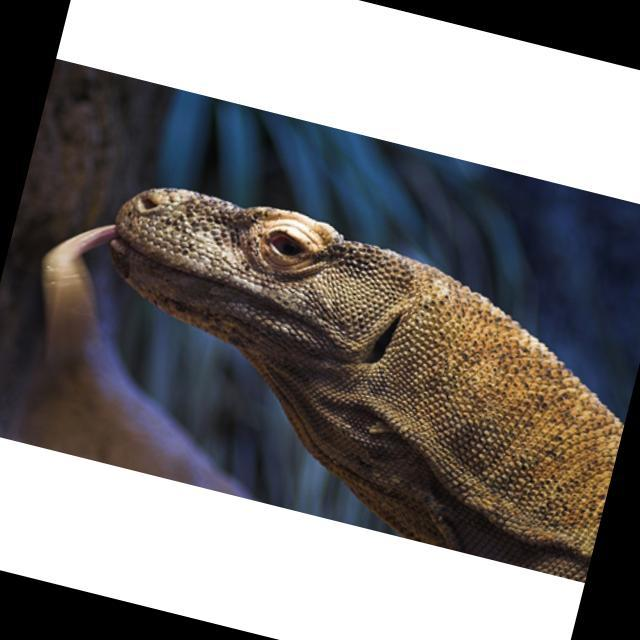KomodoDragon: (0, 152, 640, 580)
